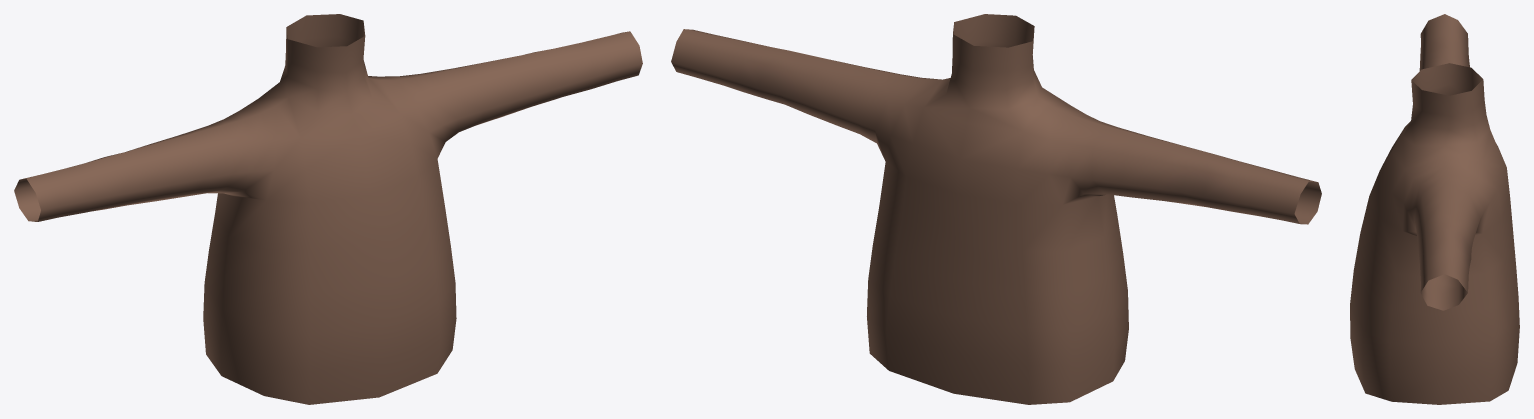
Rendered from Body_Black_Top_2.fbx.
3 views of the same model, side by side, from view 1: azimuth 30°, elevation 25°; view 2: azimuth 150°, elevation 25°; view 3: azimuth 270°, elevation 25° (orthographic). The views are drawn at different scales.
Visible parts, largest first — view 1: Body_Black_Top_2; view 2: Body_Black_Top_2; view 3: Body_Black_Top_2.
Part boxes in pixels (<box>): Body_Black_Top_2: <box>14,14,642,404</box>; Body_Black_Top_2: <box>671,14,1321,404</box>; Body_Black_Top_2: <box>1350,14,1519,404</box>.
Bounding box in the file's own units: 95.86 × 49.84 × 26.46.
